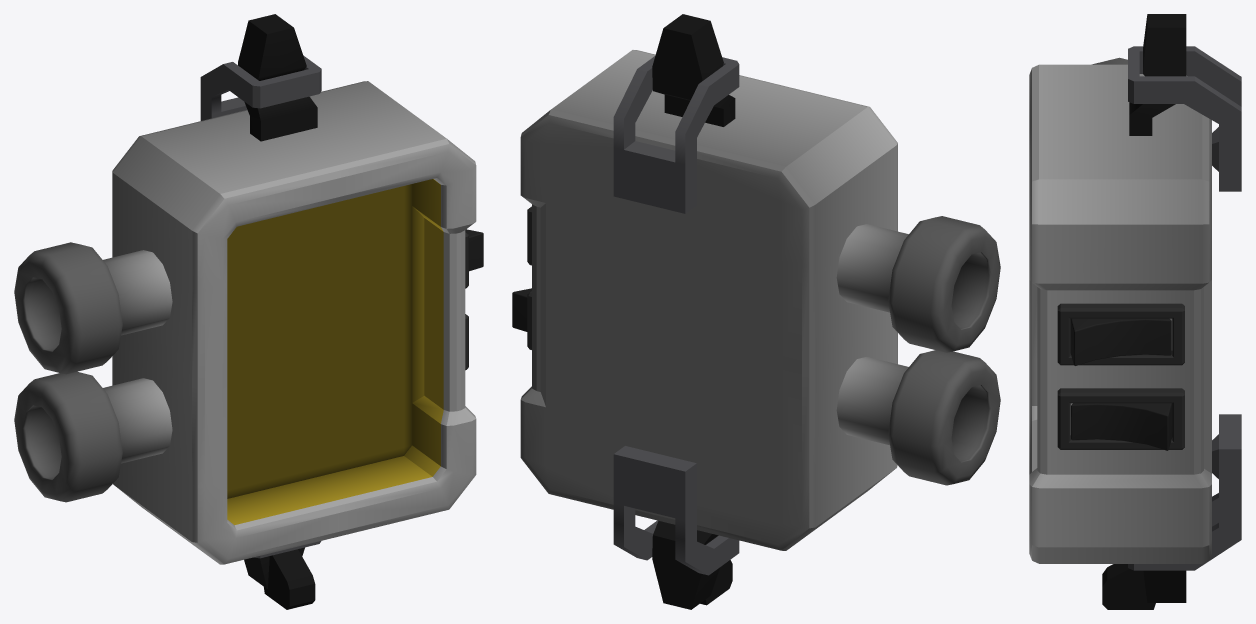
File: Procesor_Cooling_lvl_10_V06.fbx
3 views of the same model, side by side, from view 1: azimuth 30°, elevation 25°; view 2: azimuth 150°, elevation 25°; view 3: azimuth 270°, elevation 25° (orthographic). The views are drawn at different scales.
Visible parts, largest first — view 1: Procesor_Cooling_lvl_10; view 2: Procesor_Cooling_lvl_10; view 3: Procesor_Cooling_lvl_10.
Boxes of the visible parts, box(x1,y1,x2,y2) form: Procesor_Cooling_lvl_10: box(14, 14, 483, 609); Procesor_Cooling_lvl_10: box(512, 14, 1000, 609); Procesor_Cooling_lvl_10: box(1029, 14, 1241, 609).
Bounding box in the file's own units: 36.59 × 46.77 × 15.47.
